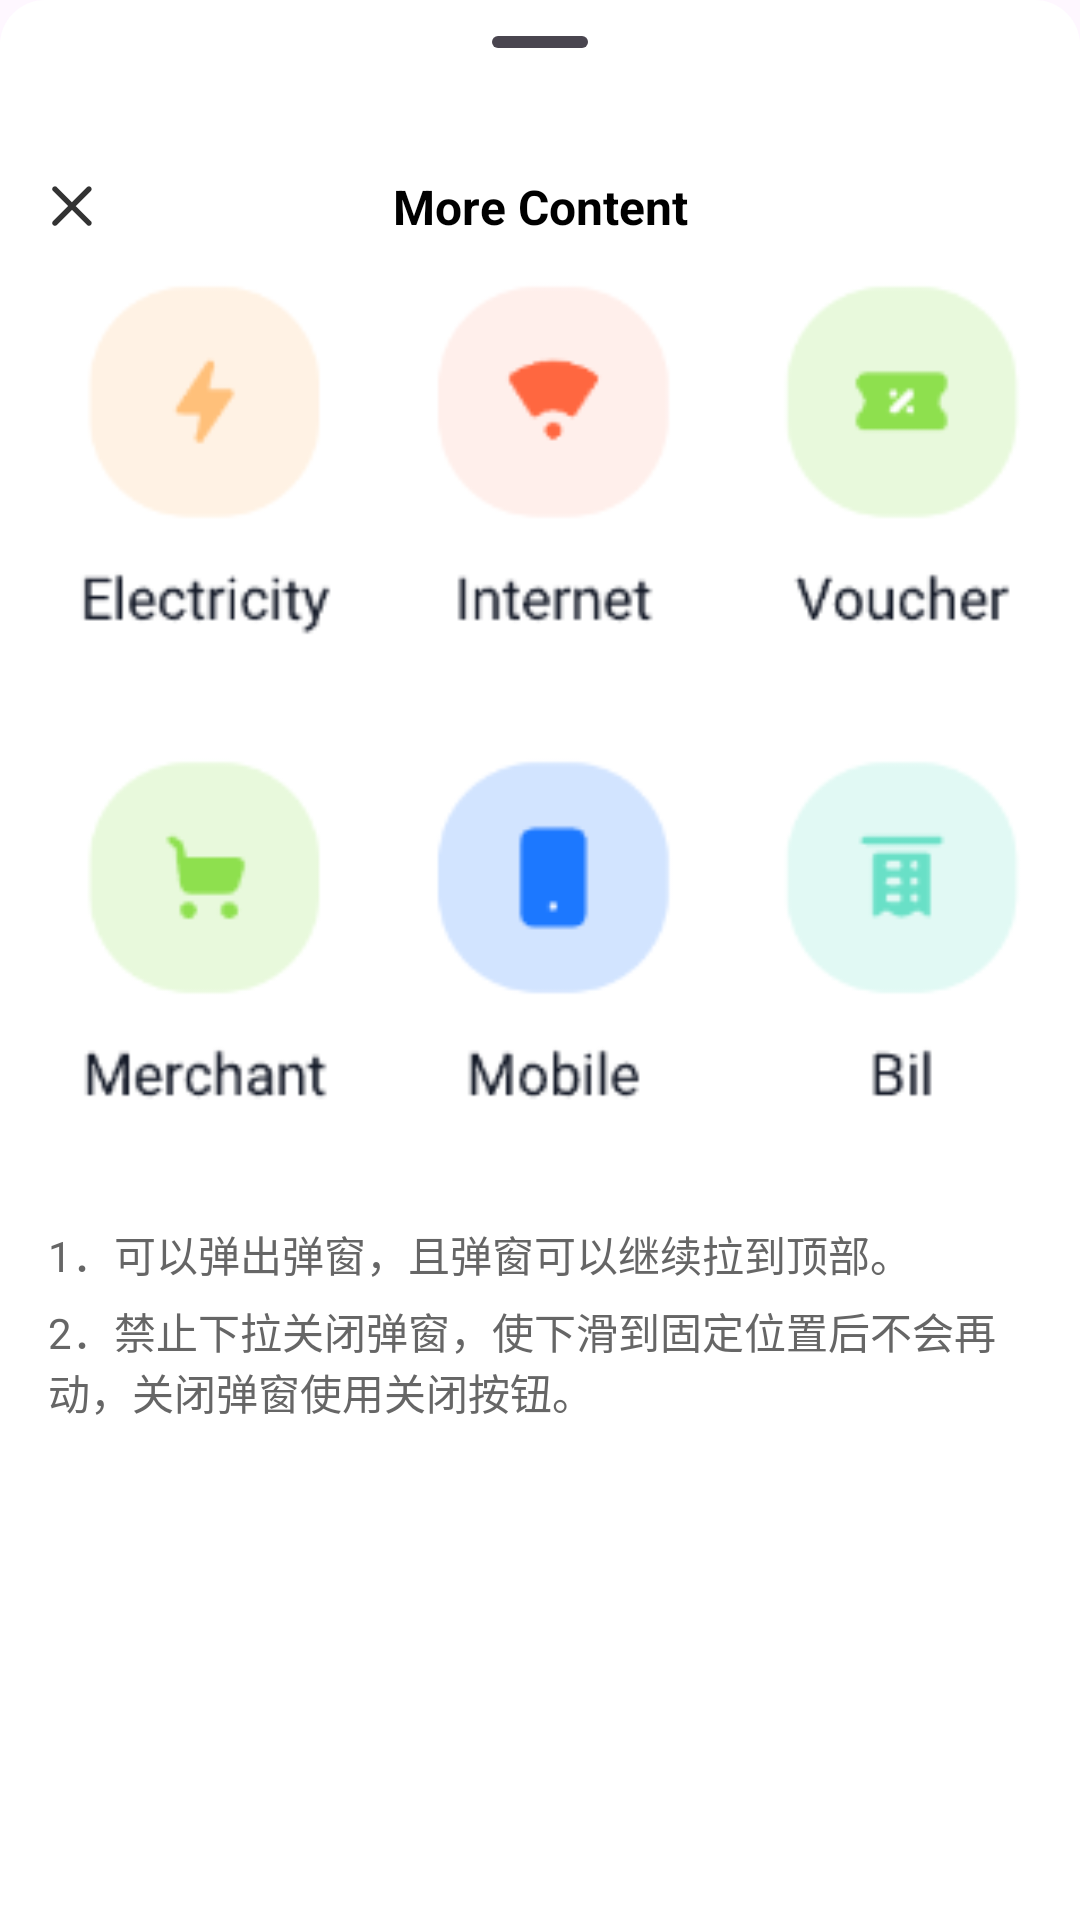

Point at icon controls on the screen. Image size 1080 x 1920, points as (x,y).
invite comment close: (72,206)
